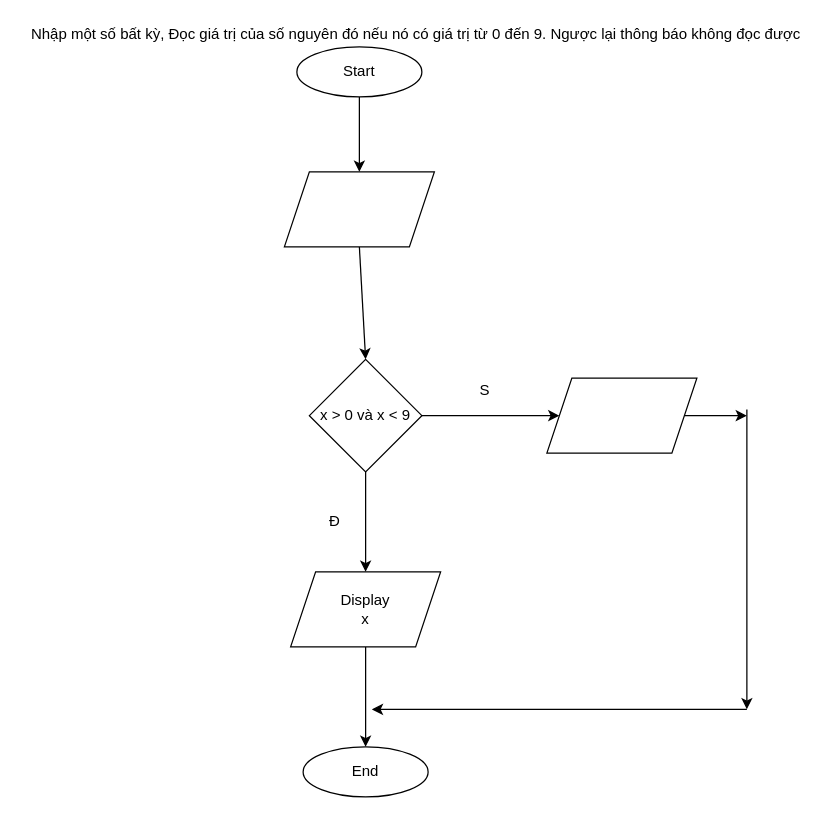
The diagram is 830 pixels wide and 819 high, and some of its shapes have lost their labels. Here are the shapes that lost their labels. From the top down, the box of each, then its label:
(283, 171, 434, 247): Nhập số bất kỳ x
(546, 377, 697, 453): Display Cannot Read
